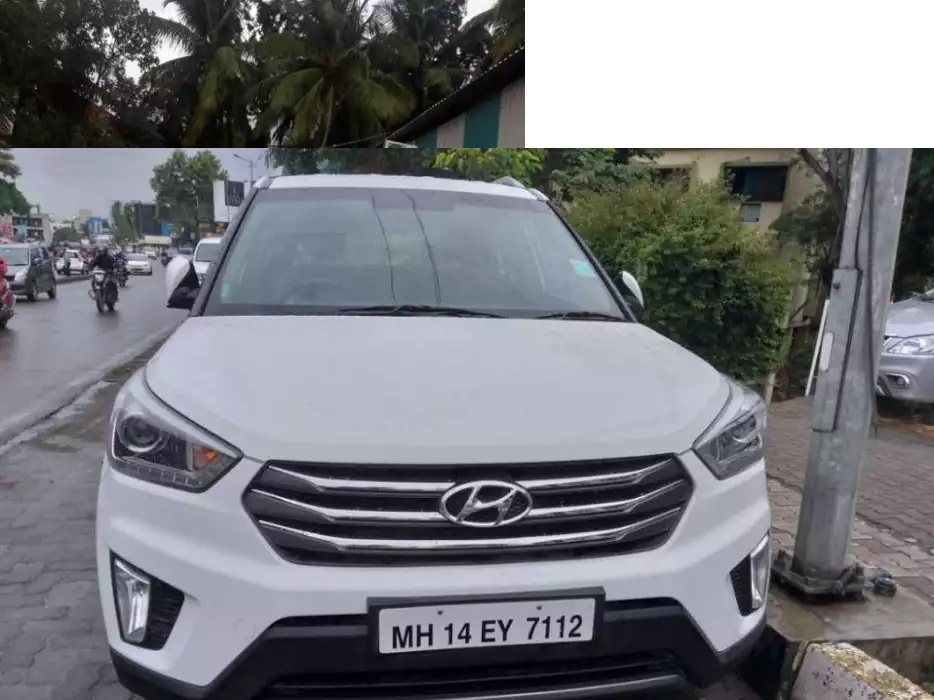licenseplate: (370, 591, 601, 649)
